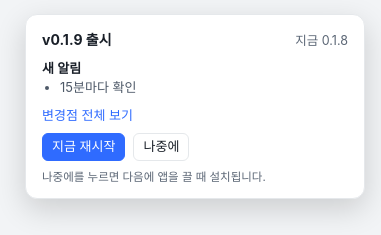
Test: 새 버전 알림 카드 › 나중에: 그 버전은 다시 띄우지 않고, 더 새 버전은 띄운다
Click the button "나중에" at (161, 147), box [134, 133, 189, 161]
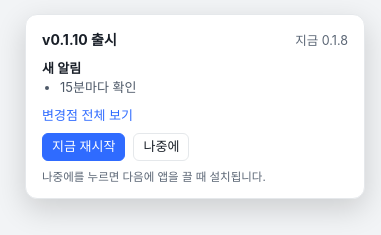
Expected: the message with class "update-card" shows "v0.1.10"
